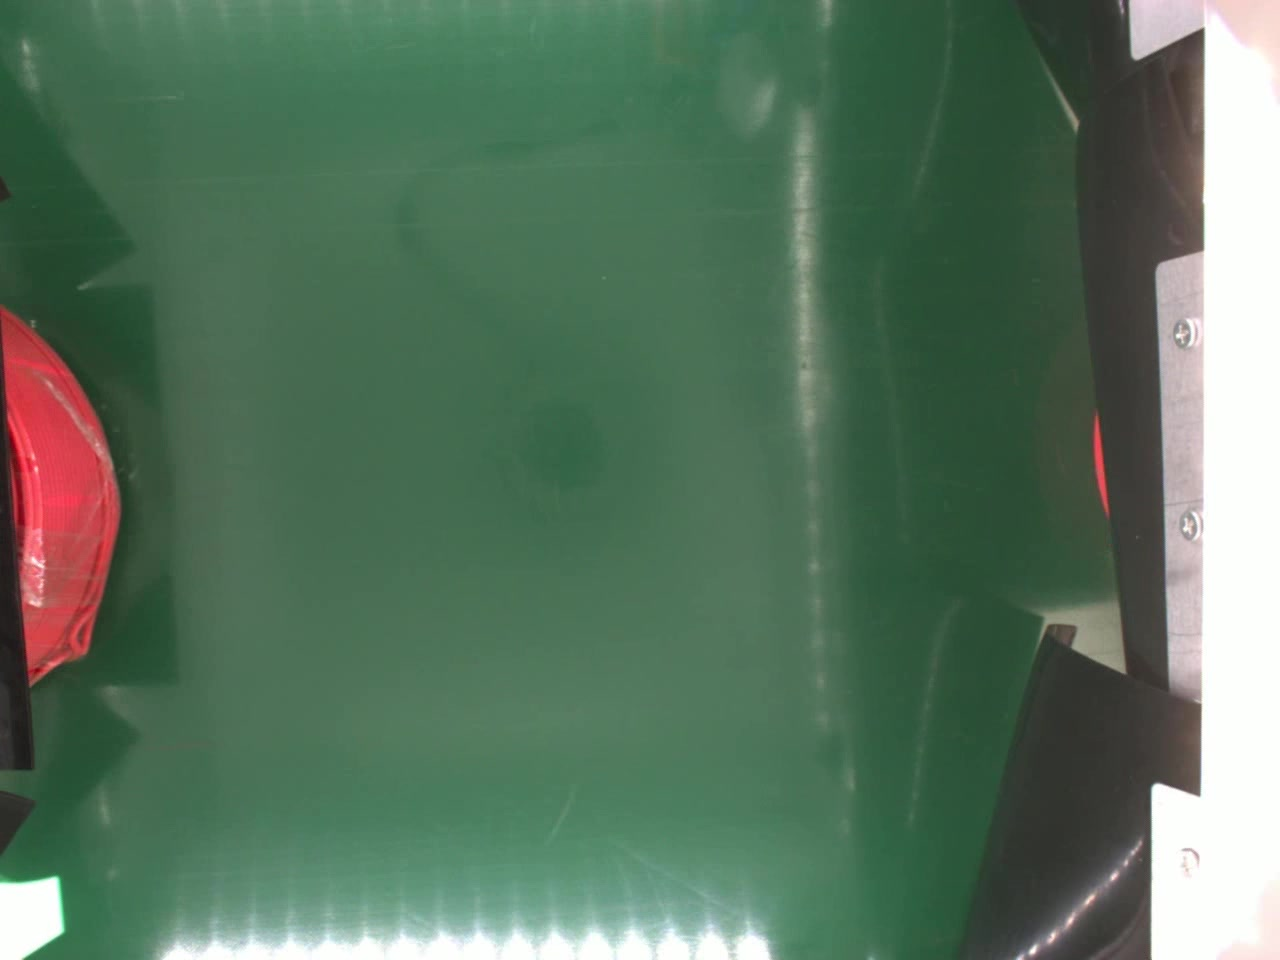red: (0, 298, 125, 682)
